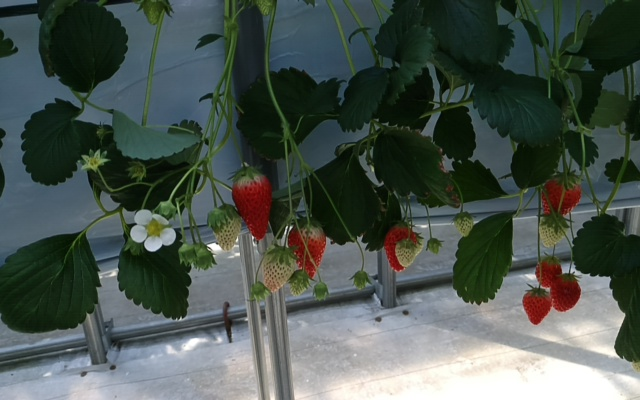GreenStrawberry: (261, 245, 294, 294), (214, 204, 240, 253), (539, 213, 569, 248), (395, 239, 417, 269), (290, 271, 310, 297), (454, 212, 473, 238)
MatureStrawberry: (231, 166, 272, 241), (287, 216, 324, 280), (538, 170, 583, 222), (383, 221, 417, 273), (521, 287, 553, 327), (550, 274, 581, 313), (536, 255, 564, 289)
